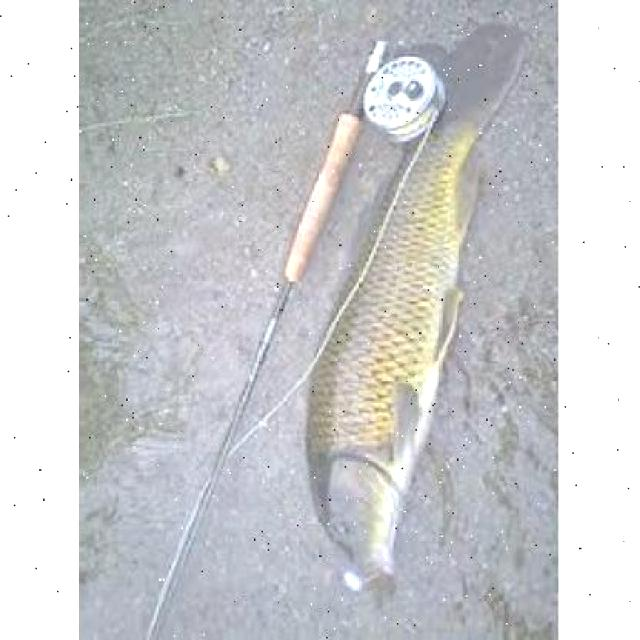ikan-mas: (300, 22, 526, 600)
